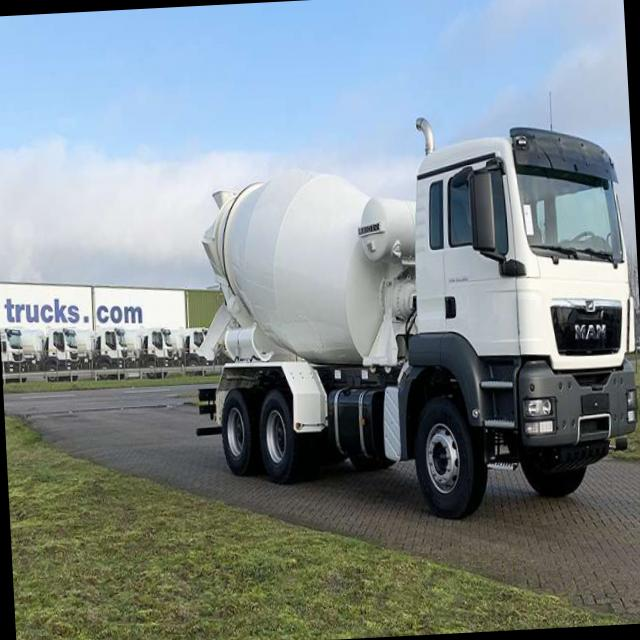Mixer Truck: (182, 121, 640, 534), (18, 324, 82, 384), (119, 326, 180, 384), (76, 324, 132, 382), (0, 321, 37, 388), (170, 326, 214, 376)
